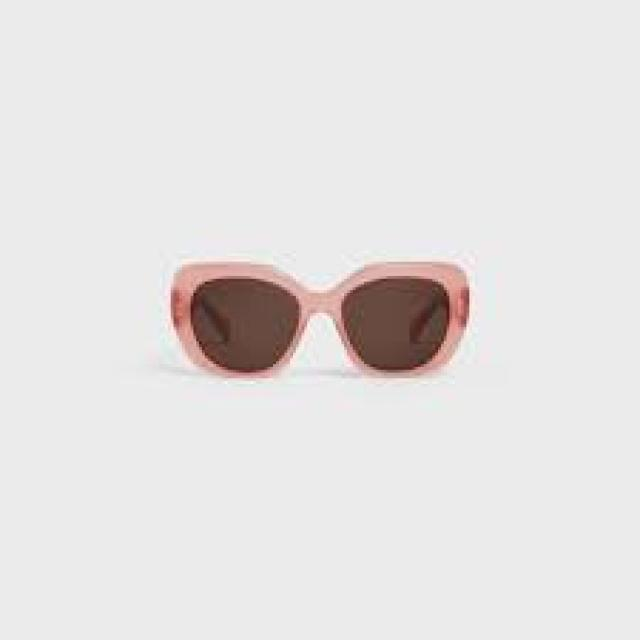suspicious-objects: (162, 252, 481, 382)
